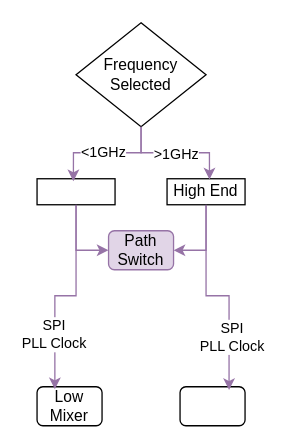
The diagram is 287 pixels wide and 448 high, and some of its shapes have lost their labels. The shapes that lost their labels are listed below. From the top down, each one's centre as x and y in pixels, then its label:
point 75,191: Low End
point 212,405: High Mixer
